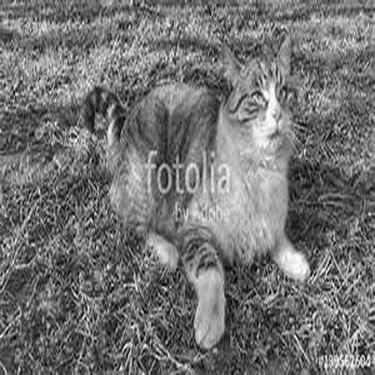cat: (74, 27, 312, 352)
